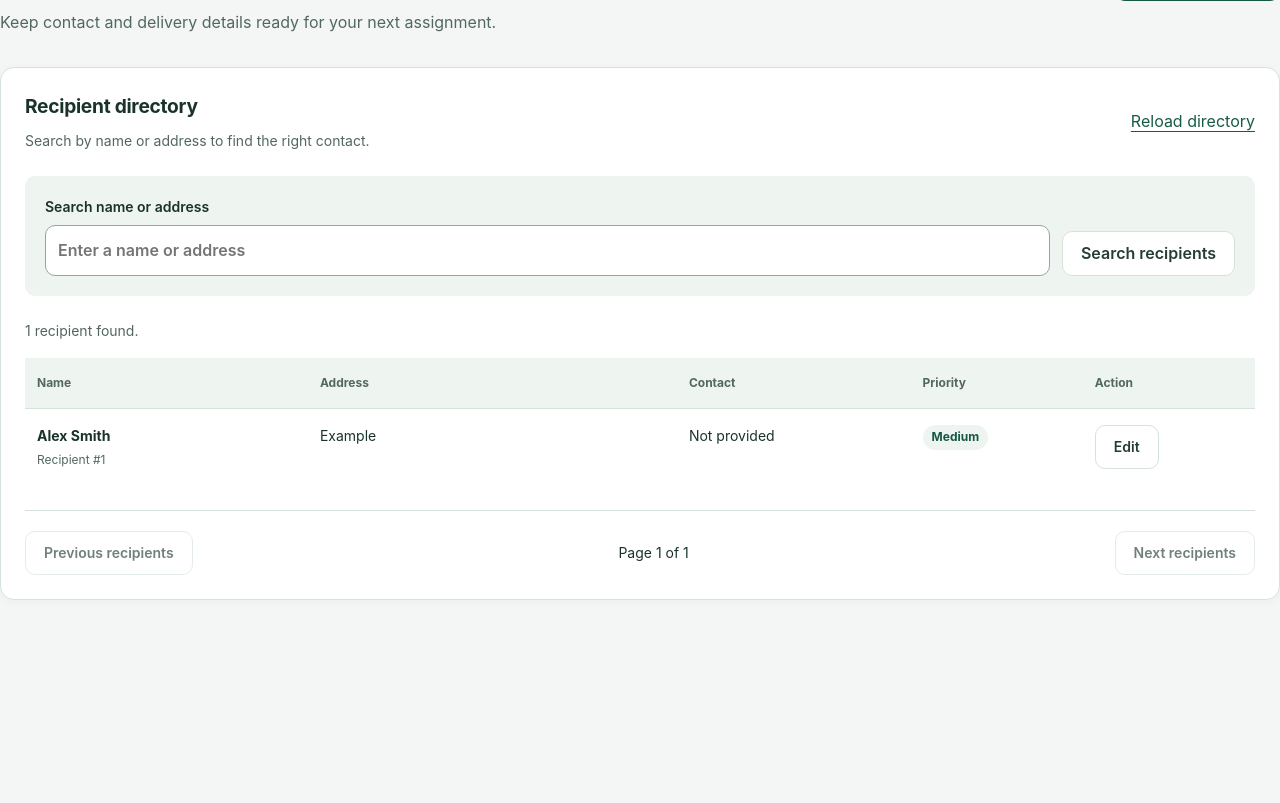
it: recipient management › loads fresh details before editing and sends the exact version
Expected: the text "Alex Smith" is shown, [37,427,110,444]
What coordinates should you click on to do the following:
click the button with aria-label "Edit Alex Smith"
I would click on:
 (1127, 447)
Its box is [1095,425,1159,469].
(page scrolled)
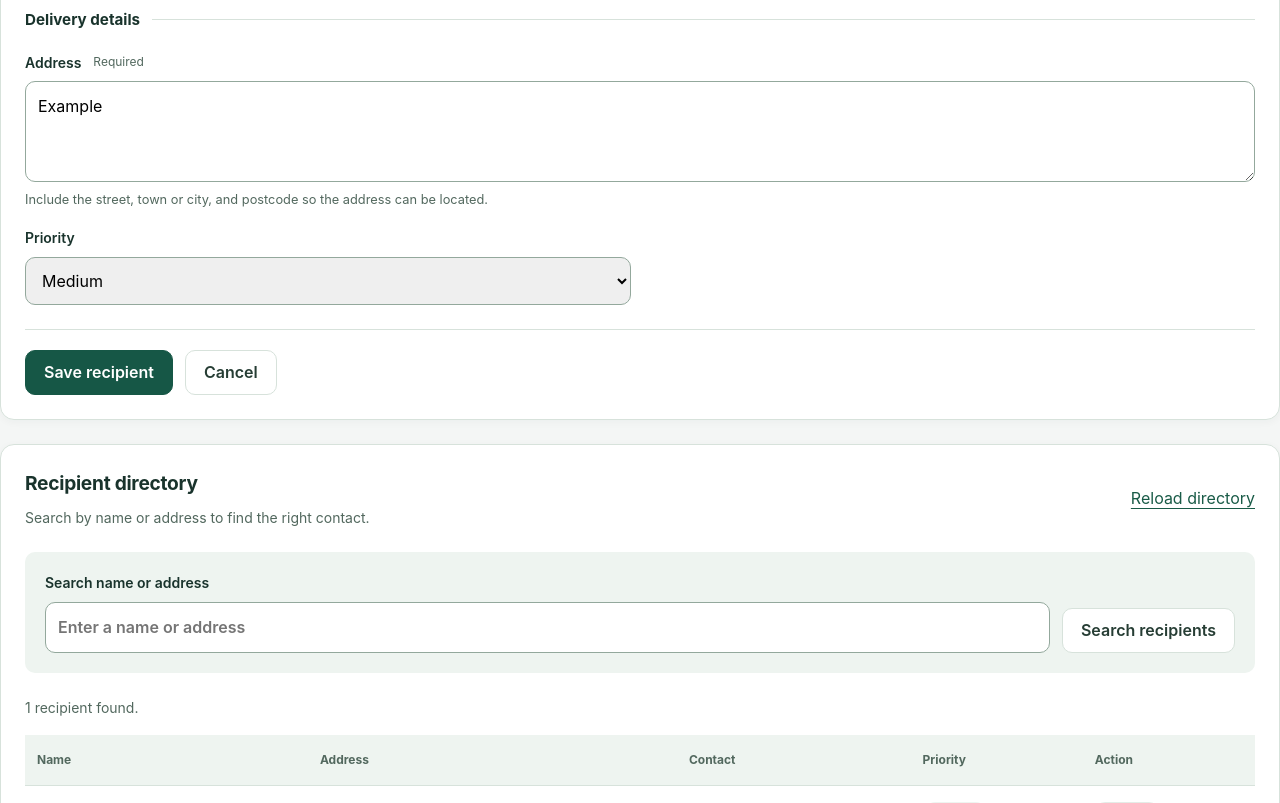
What coordinates should you click on to do the following:
click the button "Save recipient"
I would click on:
 (99, 373)
Its box is [25,350,173,395].
(page scrolled)
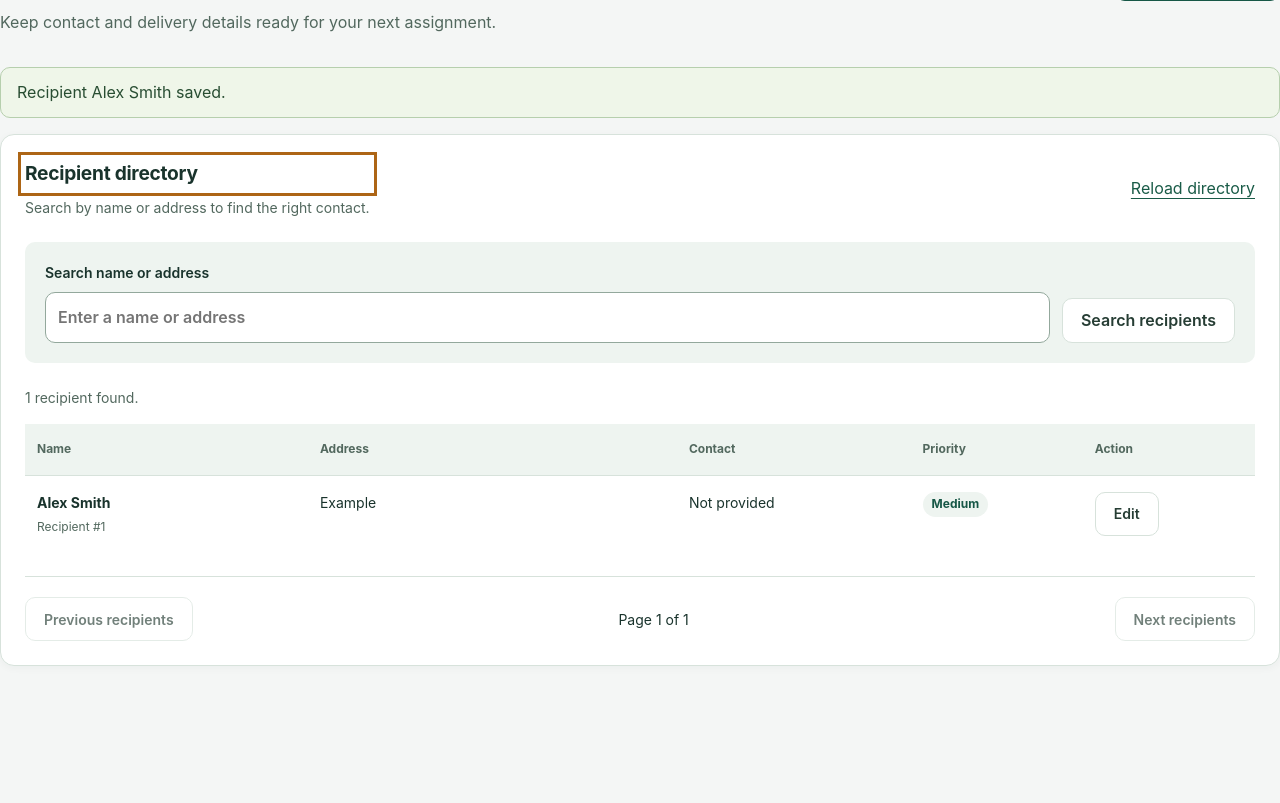
Expected: the text "Recipient Alex Smith saved." is shown, [0,67,1279,118]
